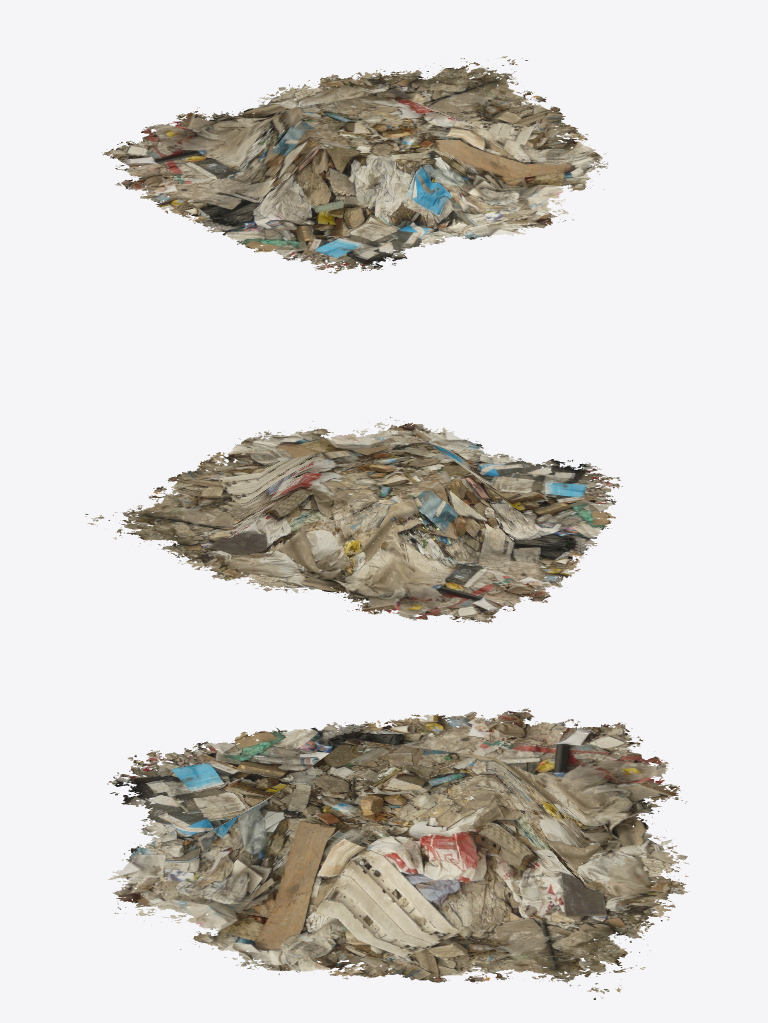
File: Trash.fbx
The picture shows the model from 3 angles, top to bottom: view 1: azimuth 30°, elevation 25°; view 2: azimuth 150°, elevation 25°; view 3: azimuth 270°, elevation 25°; orthographic projection. The views are drawn at different scales.
Parts seen in each view (by area): view 1: Trash; view 2: Trash; view 3: Trash.
Boxes of the visible parts, x1,y1,x2,y2 form: Trash: [102, 56, 608, 273]; Trash: [85, 416, 622, 623]; Trash: [107, 708, 689, 999].
Size of the model in its own units: 370 by 34.25 by 370.
